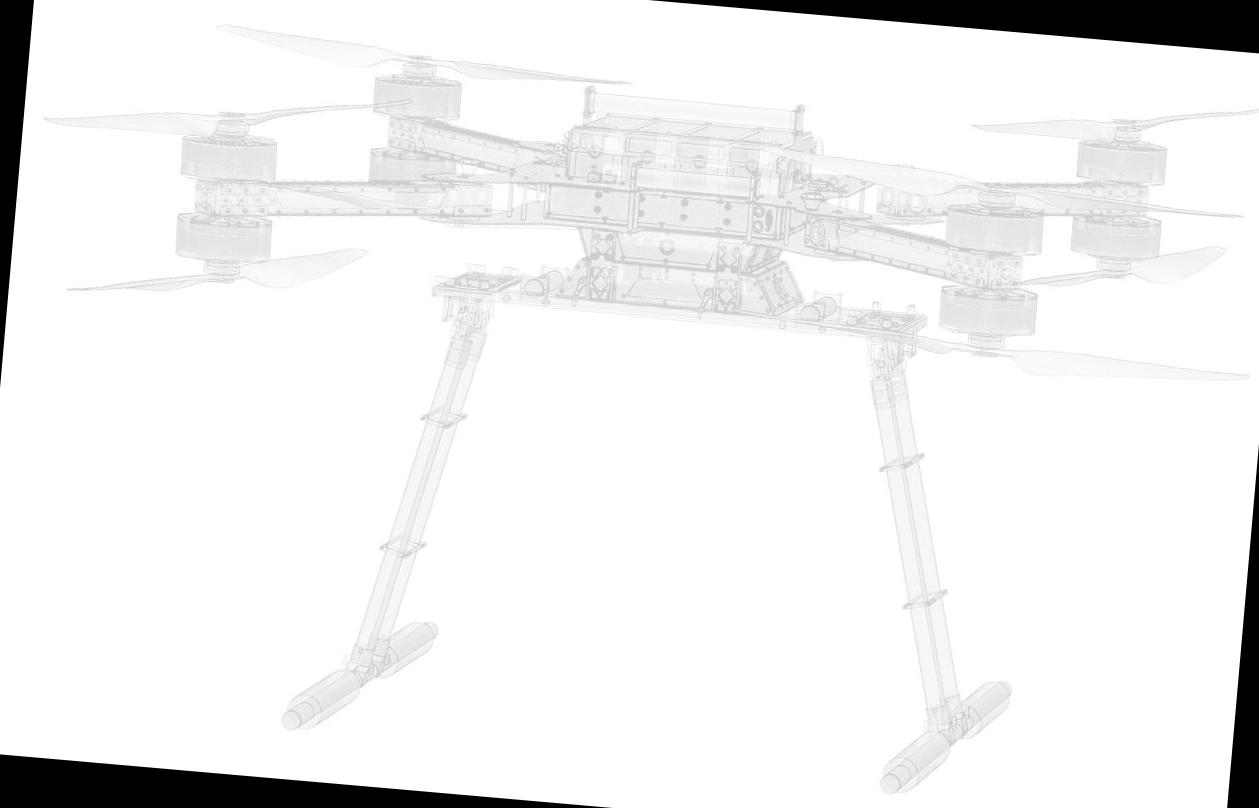drone: (66, 0, 1259, 470)
